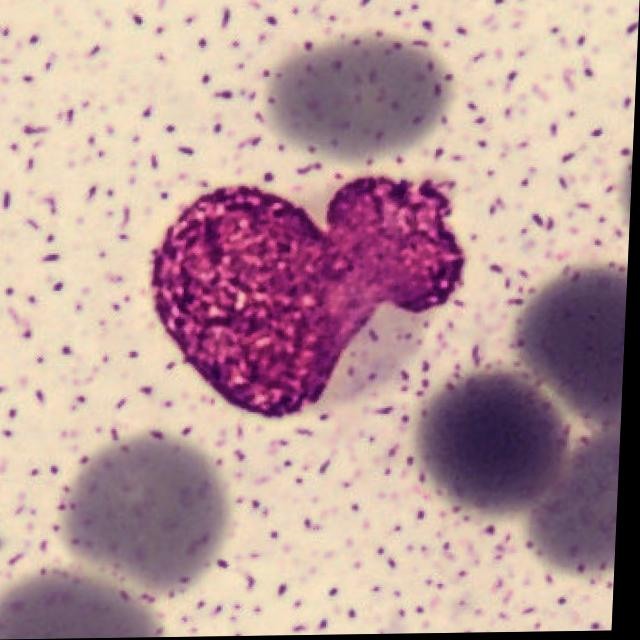Restos celulares: (154, 176, 468, 418)
